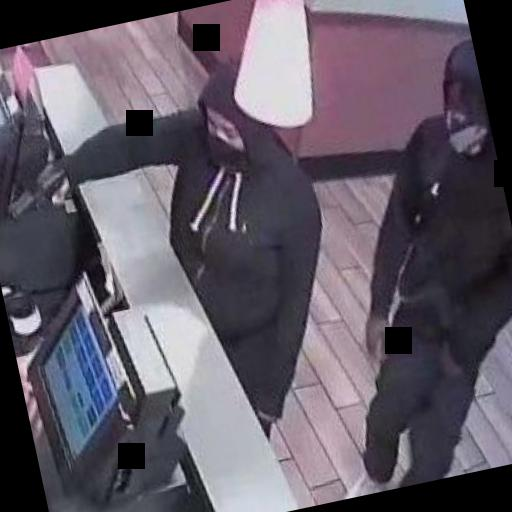Handgun: (2, 152, 70, 224)
